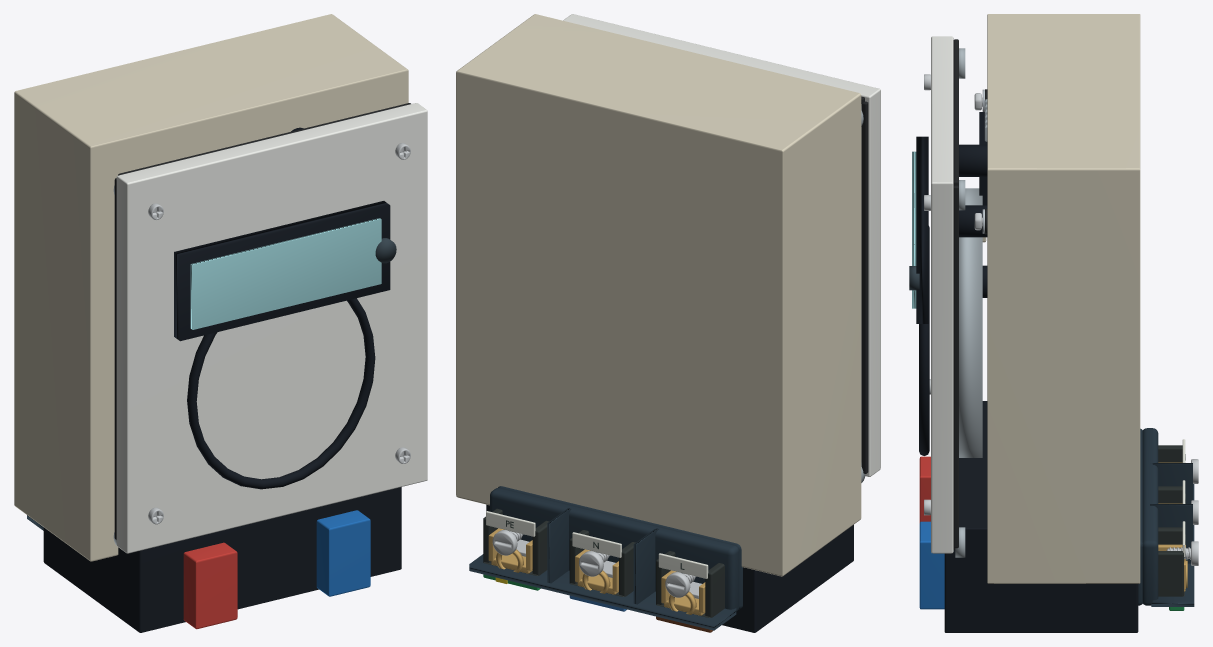
File: source_default.glb
3 views of the same model, side by side, from view 1: azimuth 30°, elevation 25°; view 2: azimuth 150°, elevation 25°; view 3: azimuth 270°, elevation 25° (orthographic). The views are drawn at different scales.
Parts seen in each view (by area): view 1: part:cover, part:body, part:display, part:body.003, detail:enclosure-gasket-and-fixings · Detail rubber gasket, detail:enclosure-gasket-and-fixings · Detail zinc plated fix; view 2: part:body, part:terminals · Original a463fd81, part:cover, detail:enclosure-gasket-and-fixings · Detail rubber gasket, detail:terminal-clamp:L · Detail moulded engineering polymer, detail:terminal-clamp:PE · Detail moulded engineering polyme, detail:terminal-clamp:N · Detail moulded engineering polymer, detail:terminal-clamp:L · Detail machined brass, detail:terminal-clamp:PE · Detail machined brass, detail:terminal-clamp:N · Detail machined brass, Moulded terminal legend pad, Moulded terminal legend pad.002 (+4 smaller); view 3: part:body, part:cover, part:terminals · Original a463fd81, part:body.001, detail:enclosure-gasket-and-fixings · Detail rubber gasket, part:display, part:body.003, part:body.002 · Original 3ff2d46d, detail:terminal-clamp:PE · Detail moulded engineering polyme, part:mounting · Original 2a8198d3, detail:terminal-clamp:L · Detail moulded engineering polymer, detail:terminal-clamp:N · Detail moulded engineering polymer.
Part boxes in pixels (x1,y1,x2,y2): part:cover: (116,103,427,553); part:body: (14,14,408,632); part:display: (174,201,390,341); part:body.003: (183,510,370,629); detail:enclosure-gasket-and-fixings · Detail rubber gasket: (114,103,410,539); detail:enclosure-gasket-and-fixings · Detail zinc plated fix: (148,143,410,524); part:body: (456,14,861,632); part:terminals · Original a463fd81: (469,486,742,630); part:cover: (563,14,880,476); detail:enclosure-gasket-and-fixings · Detail rubber gasket: (861,96,868,473); detail:terminal-clamp:L · Detail moulded engineering polymer: (656,551,724,617); detail:terminal-clamp:PE · Detail moulded engineering polyme: (483,508,549,575); detail:terminal-clamp:N · Detail moulded engineering polymer: (569,530,635,596); detail:terminal-clamp:L · Detail machined brass: (661,570,705,615); detail:terminal-clamp:PE · Detail machined brass: (488,528,532,573); detail:terminal-clamp:N · Detail machined brass: (575,549,618,594); Moulded terminal legend pad: (658,553,708,578); Moulded terminal legend pad.002: (486,511,535,536); part:body: (944,14,1140,632); part:cover: (919,36,953,553); part:terminals · Original a463fd81: (1138,428,1194,606); part:body.001: (959,188,982,457); detail:enclosure-gasket-and-fixings · Detail rubber gasket: (953,39,958,550); part:display: (912,136,928,323); part:body.003: (919,456,944,609); part:body.002 · Original 3ff2d46d: (959,112,987,297); detail:terminal-clamp:PE · Detail moulded engineering polyme: (1158,527,1184,596); part:mounting · Original 2a8198d3: (955,48,965,557); detail:terminal-clamp:L · Detail moulded engineering polymer: (1158,445,1182,462); detail:terminal-clamp:N · Detail moulded engineering polymer: (1158,486,1182,503).
Size of the model in its own units: 0.77 by 1.1 by 0.6053.
